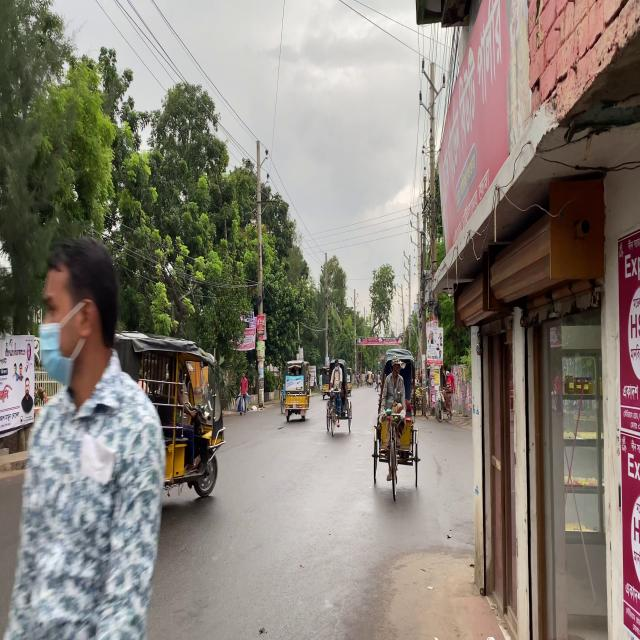rickshaw: (130, 317, 224, 495), (369, 344, 421, 490), (324, 354, 351, 433), (283, 348, 307, 428)
